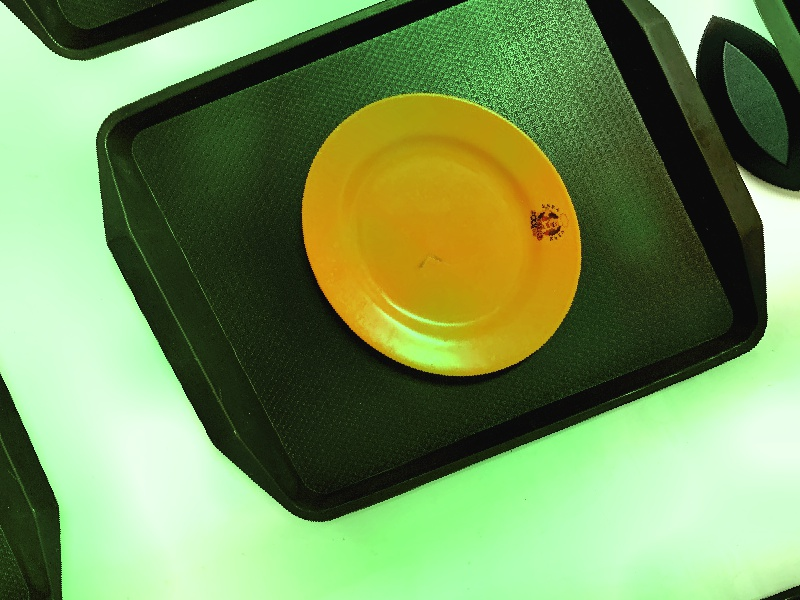dish10: (246, 47, 636, 421)
